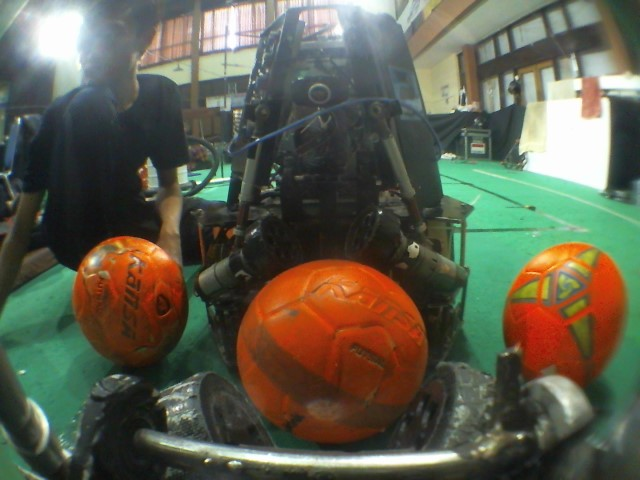ball: (229, 255, 433, 448), (497, 239, 634, 387), (67, 232, 195, 373)
